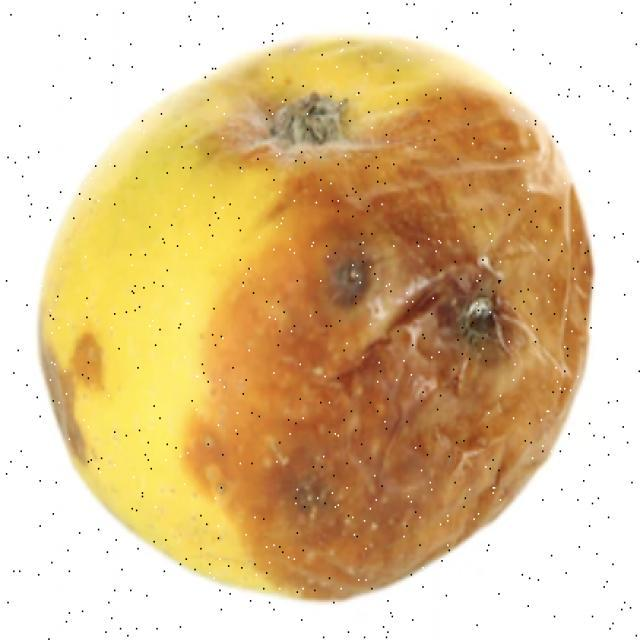Rotten: (56, 60, 582, 587)
